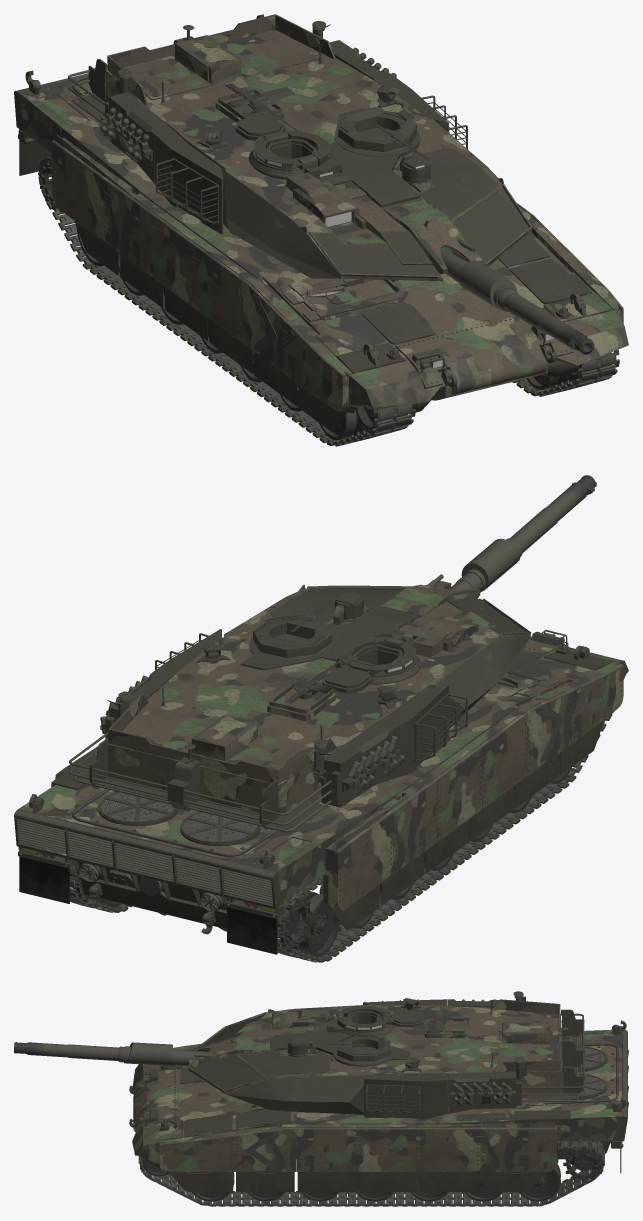
File: m1a2_sepv3_dannzjs.glb
The picture shows the model from 3 angles, top to bottom: view 1: azimuth 30°, elevation 25°; view 2: azimuth 150°, elevation 25°; view 3: azimuth 270°, elevation 25°; orthographic projection. The views are drawn at different scales.
Visible parts, largest first — view 1: TurretPivot, Object_11, Object_19, GunPivot, Object_12, Object_8, Object_9, Object_15, Object_21, Object_2, Object_20; view 2: TurretPivot, Object_11, Object_19, Object_12, GunPivot, Object_9, Object_8, Object_22, Object_21, Object_15, Object_5, Object_20 (+1 smaller); view 3: TurretPivot, Object_19, Object_11, Object_12, GunPivot, Object_8, Object_21, Object_9, Object_20, Object_15, Object_5, Object_24 (+3 smaller).
Boxes of the visible parts, left/top/right/bottom form: TurretPivot: left=68, top=14, right=532, bottom=281; Object_11: left=14, top=69, right=628, bottom=412; Object_19: left=51, top=75, right=623, bottom=411; GunPivot: left=384, top=200, right=594, bottom=354; Object_12: left=74, top=221, right=613, bottom=432; Object_8: left=38, top=156, right=619, bottom=445; Object_9: left=39, top=156, right=612, bottom=445; Object_15: left=25, top=14, right=586, bottom=387; Object_21: left=76, top=227, right=565, bottom=439; Object_2: left=48, top=154, right=616, bottom=446; Object_20: left=38, top=156, right=611, bottom=429; TurretPivot: left=69, top=584, right=531, bottom=832; Object_11: left=14, top=647, right=628, bottom=954; Object_19: left=55, top=636, right=623, bottom=911; Object_12: left=323, top=720, right=604, bottom=930; GunPivot: left=382, top=475, right=596, bottom=616; Object_9: left=70, top=716, right=609, bottom=961; Object_8: left=70, top=714, right=612, bottom=961; Object_22: left=101, top=792, right=256, bottom=841; Object_21: left=92, top=761, right=571, bottom=956; Object_15: left=29, top=629, right=589, bottom=934; Object_5: left=71, top=705, right=564, bottom=856; Object_20: left=70, top=874, right=312, bottom=951; TurretPivot: left=189, top=991, right=584, bottom=1119; Object_19: left=132, top=1044, right=621, bottom=1171; Object_11: left=132, top=1029, right=628, bottom=1173; Object_12: left=154, top=1141, right=558, bottom=1191; GunPivot: left=14, top=1036, right=269, bottom=1066; Object_8: left=139, top=1141, right=603, bottom=1206; Object_21: left=192, top=1165, right=560, bottom=1201; Object_9: left=140, top=1141, right=603, bottom=1206; Object_20: left=142, top=1142, right=604, bottom=1182; Object_15: left=129, top=1020, right=626, bottom=1144; Object_5: left=245, top=1043, right=618, bottom=1169; Object_24: left=196, top=1149, right=559, bottom=1197.
Size of the model in its own units: 4.84 by 3.29 by 13.02.
21 materials, 19 textured.
